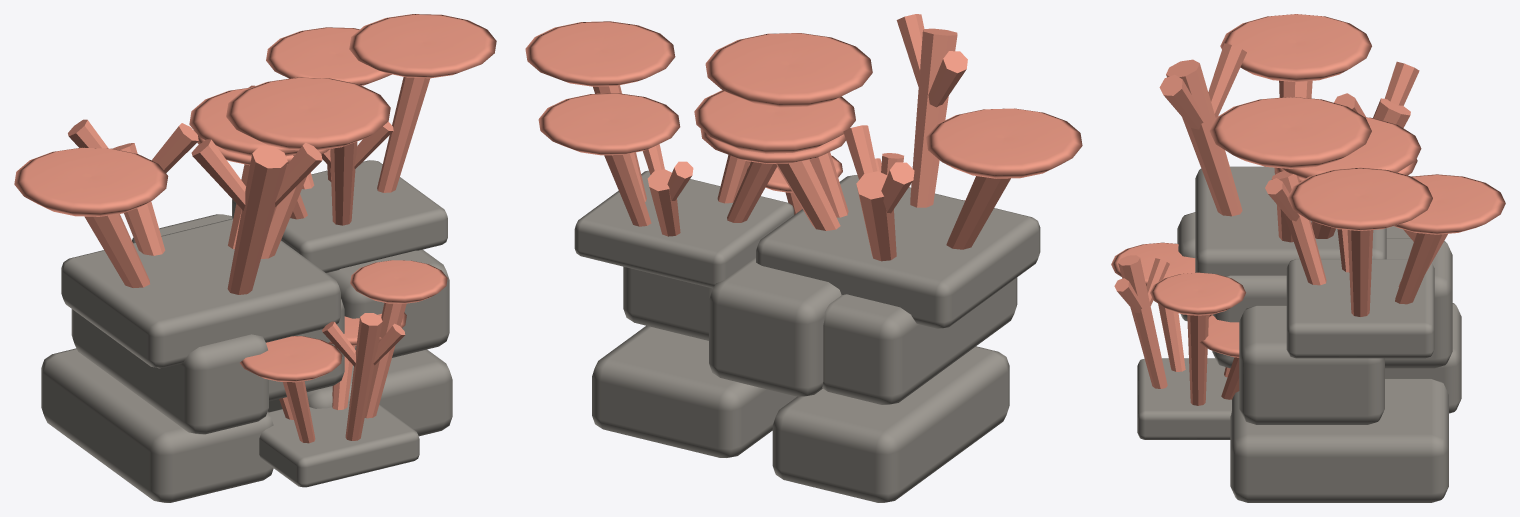
File: public-aquarium-and-marine-centre-tank-coral-cluster-99d9457b__34151.glb
The picture shows the model from 3 angles, left to right: view 1: azimuth 30°, elevation 25°; view 2: azimuth 150°, elevation 25°; view 3: azimuth 270°, elevation 25°; orthographic projection. The views are drawn at different scales.
Parts seen in each view (by area): view 1: tank-coral-cluster; view 2: tank-coral-cluster; view 3: tank-coral-cluster.
Boxes of the visible parts, x1=… form: tank-coral-cluster: x1=14, y1=14, x2=496, y2=502; tank-coral-cluster: x1=525, y1=14, x2=1082, y2=502; tank-coral-cluster: x1=1111, y1=14, x2=1505, y2=502.
Size of the model in its own units: 0.9668 by 0.6595 by 0.6811.
